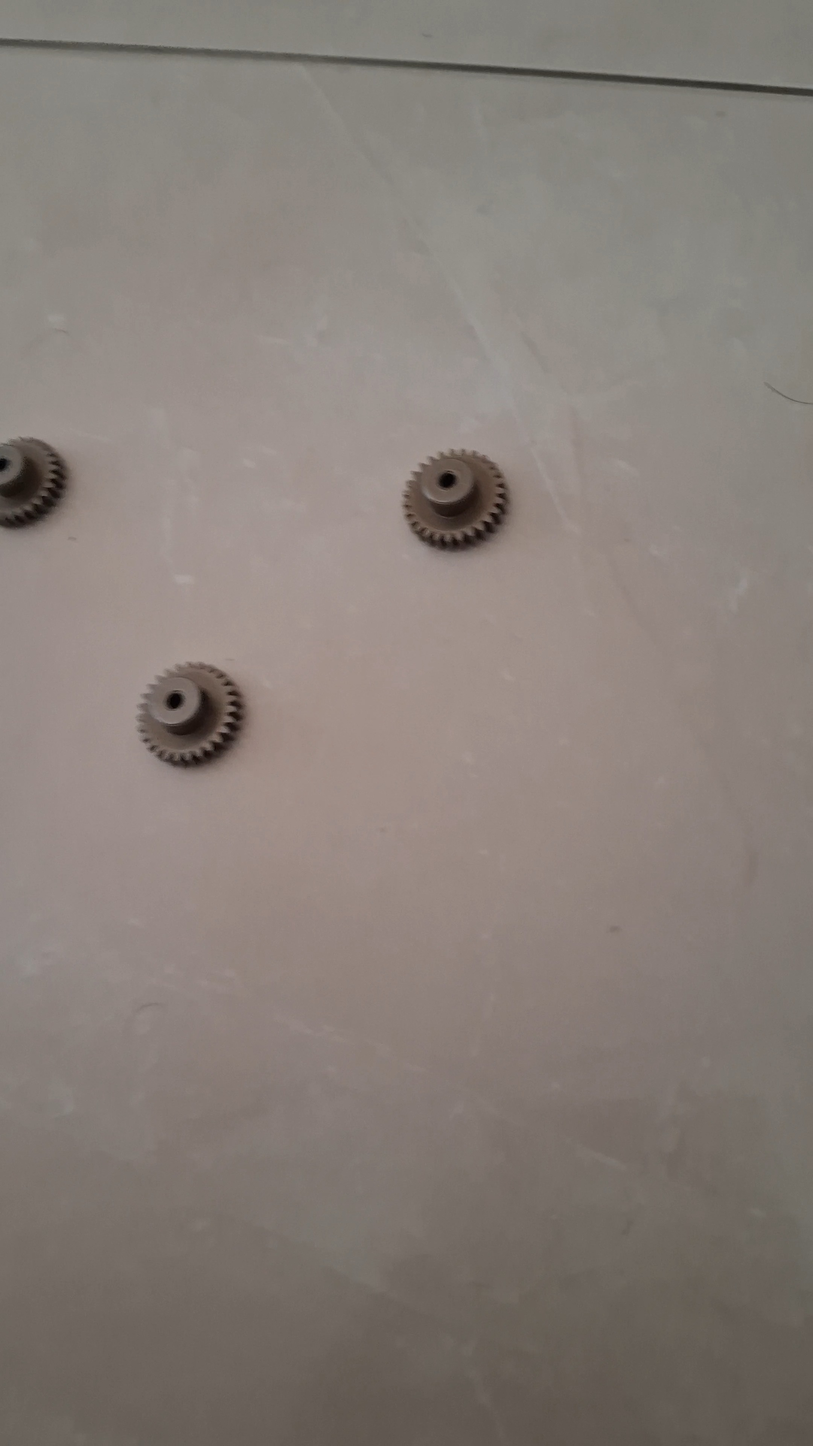spur gear: (138, 664, 242, 765), (403, 450, 508, 547), (0, 438, 66, 527)
